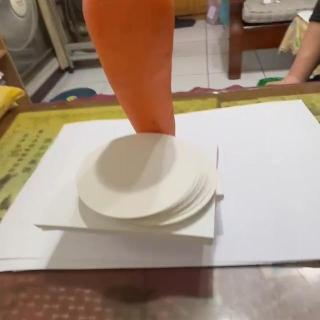carrot: (81, 0, 177, 136)
